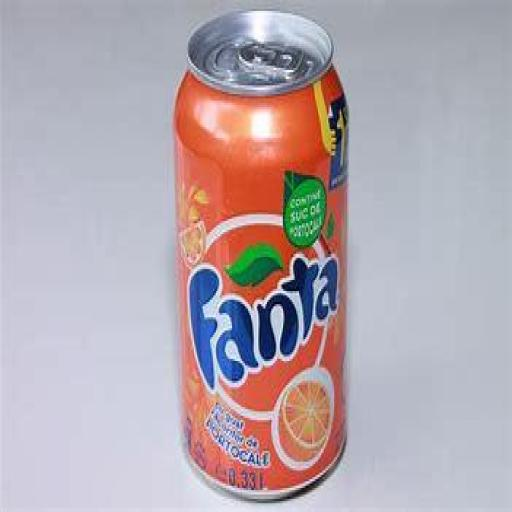can: (169, 6, 347, 504)
pop tab: (238, 41, 305, 76)
